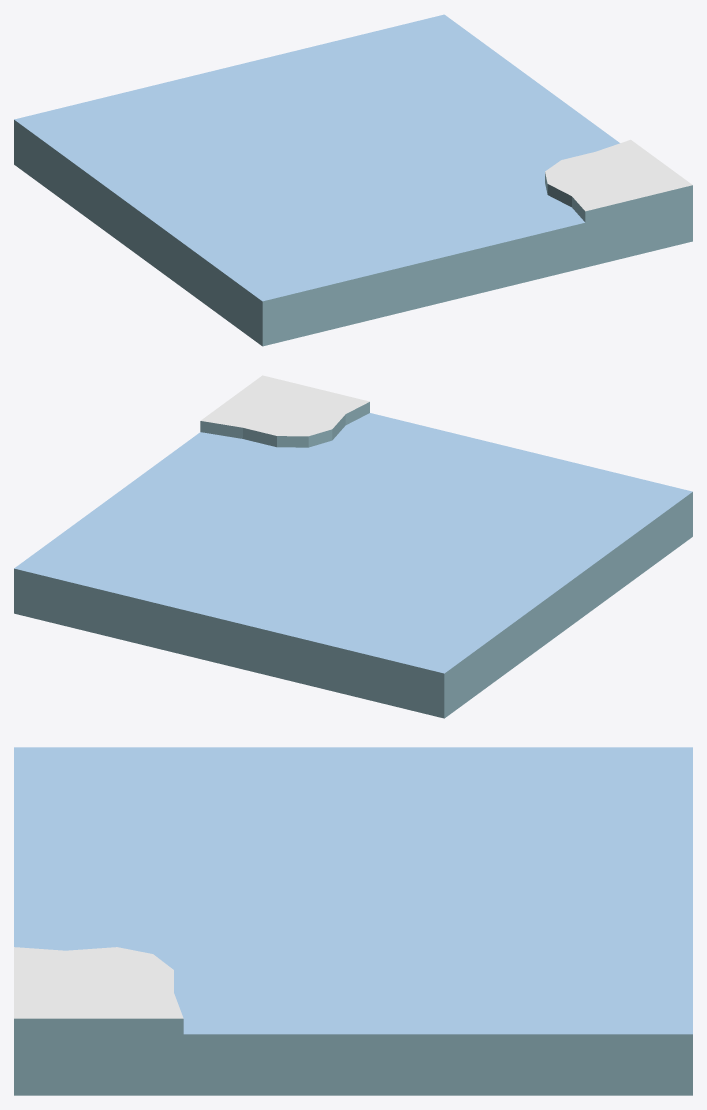
File: Terrain_Tile_Ice_Snow_Water_Bank_Corner_05.fbx
The picture shows the model from 3 angles, top to bottom: view 1: azimuth 30°, elevation 25°; view 2: azimuth 150°, elevation 25°; view 3: azimuth 270°, elevation 25°; orthographic projection. The views are drawn at different scales.
Parts seen in each view (by area): view 1: Terrain_Tile_Ice_Snow_Water_Bank_Corner_05; view 2: Terrain_Tile_Ice_Snow_Water_Bank_Corner_05; view 3: Terrain_Tile_Ice_Snow_Water_Bank_Corner_05.
Boxes of the visible parts, x1,y1,x2,y2 form: Terrain_Tile_Ice_Snow_Water_Bank_Corner_05: (14, 14, 692, 346); Terrain_Tile_Ice_Snow_Water_Bank_Corner_05: (14, 375, 692, 718); Terrain_Tile_Ice_Snow_Water_Bank_Corner_05: (14, 747, 692, 1095).
Size of the model in its own units: 126 by 15.75 by 126.
